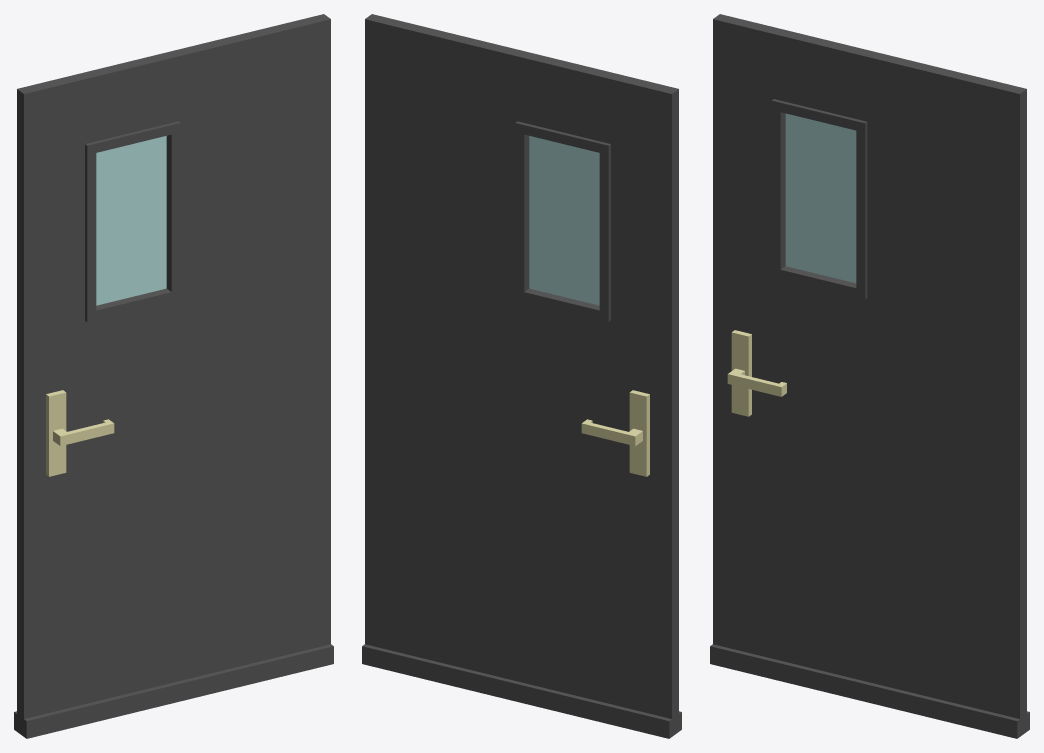
File: Puerta.fbx
3 views of the same model, side by side, from view 1: azimuth 30°, elevation 25°; view 2: azimuth 150°, elevation 25°; view 3: azimuth 330°, elevation 25° (orthographic).
Visible parts, largest first — view 1: Puerta, Vidre, Pomo; view 2: Puerta, Vidre, Pomo; view 3: Puerta, Vidre, Pomo.
Boxes of the visible parts, x1,y1,x2,y2 form: Puerta: (14,14,333,738); Vidre: (96,136,166,305); Pomo: (46,390,114,476); Puerta: (362,14,681,738); Vidre: (529,136,599,305); Pomo: (581,390,649,476); Puerta: (710,14,1029,738); Vidre: (785,113,856,283); Pomo: (727,330,786,416).
Bounding box in the file's own units: 111 × 221 × 17.91.
